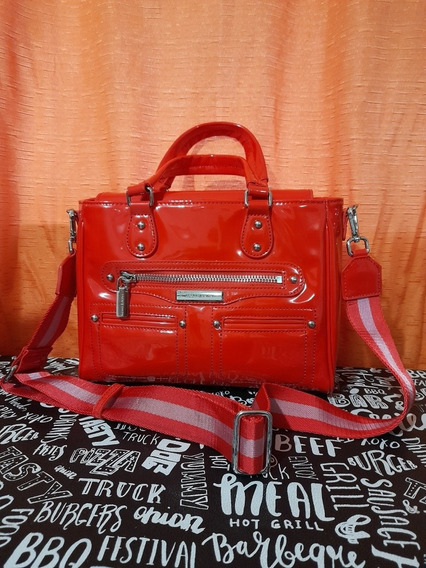cartera: (61, 119, 348, 401)
